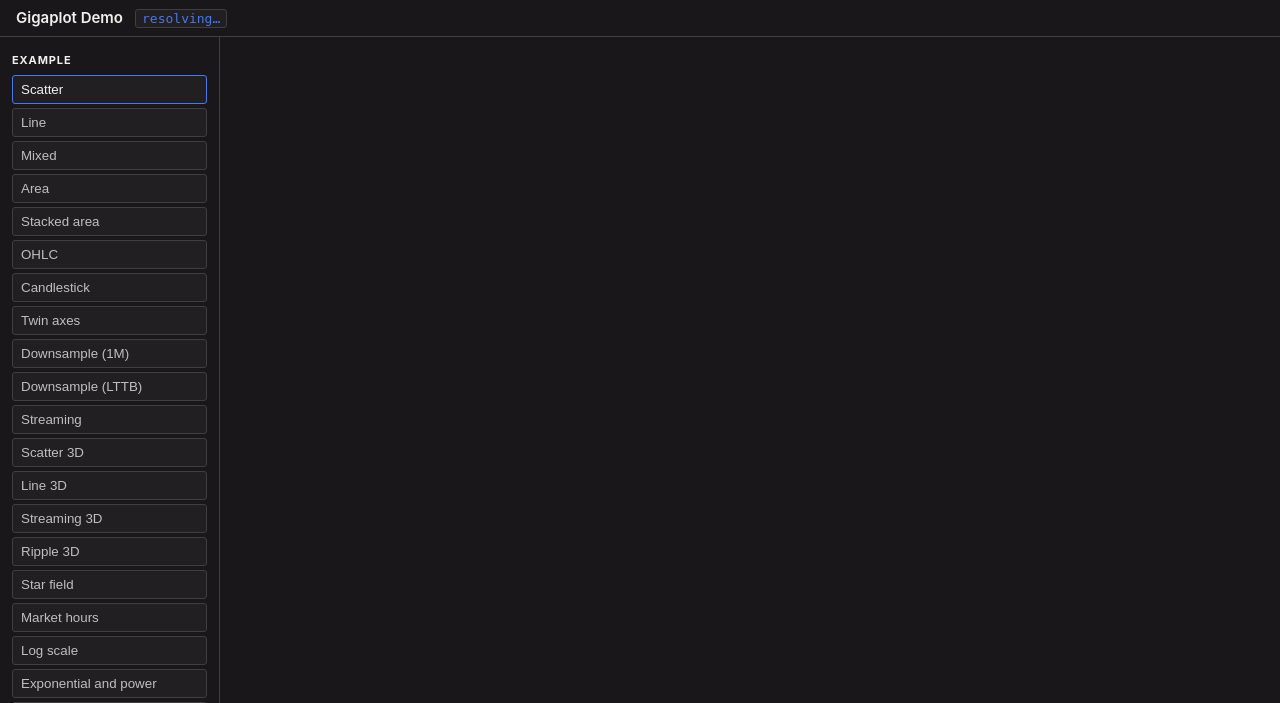
Test: draws the star-field example as a 3D plot
Click the button "Star field" at (110, 584), box [12,570,207,599]
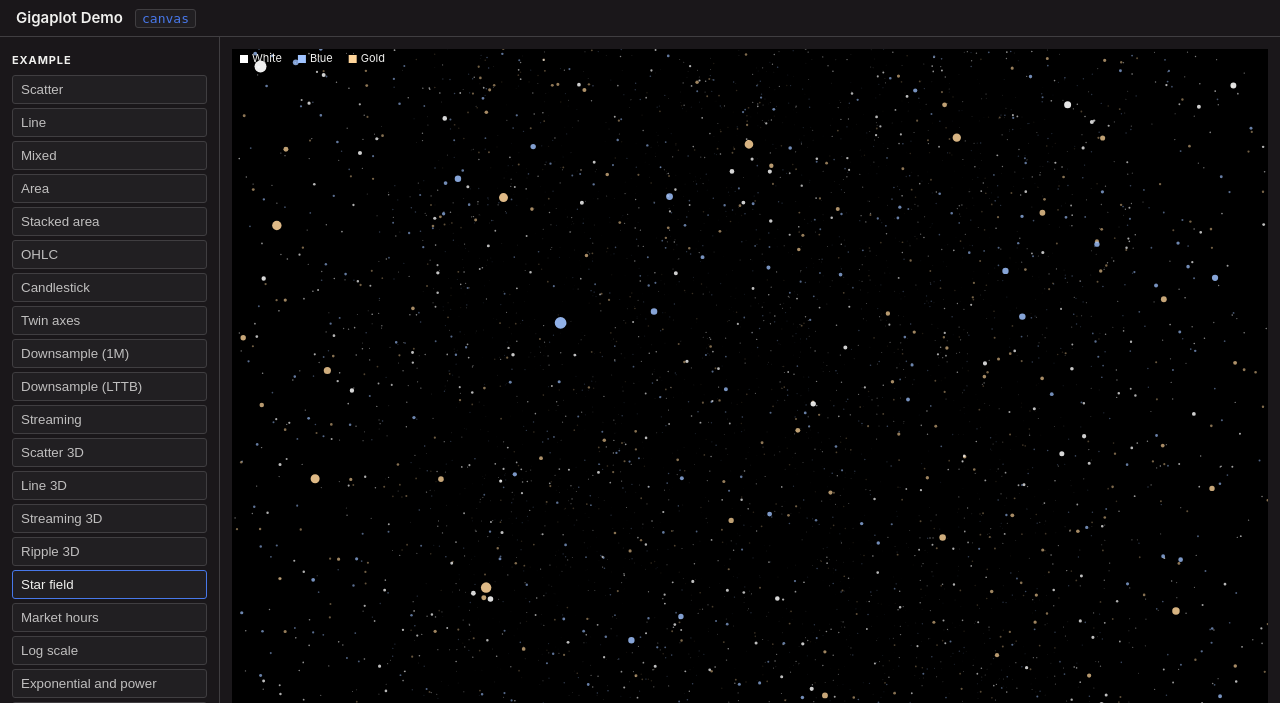
Now the text with test id "active-renderer" reads "canvas", box [142,11,189,26]
